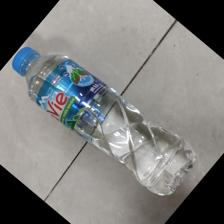Lavie: (10, 44, 198, 199)
